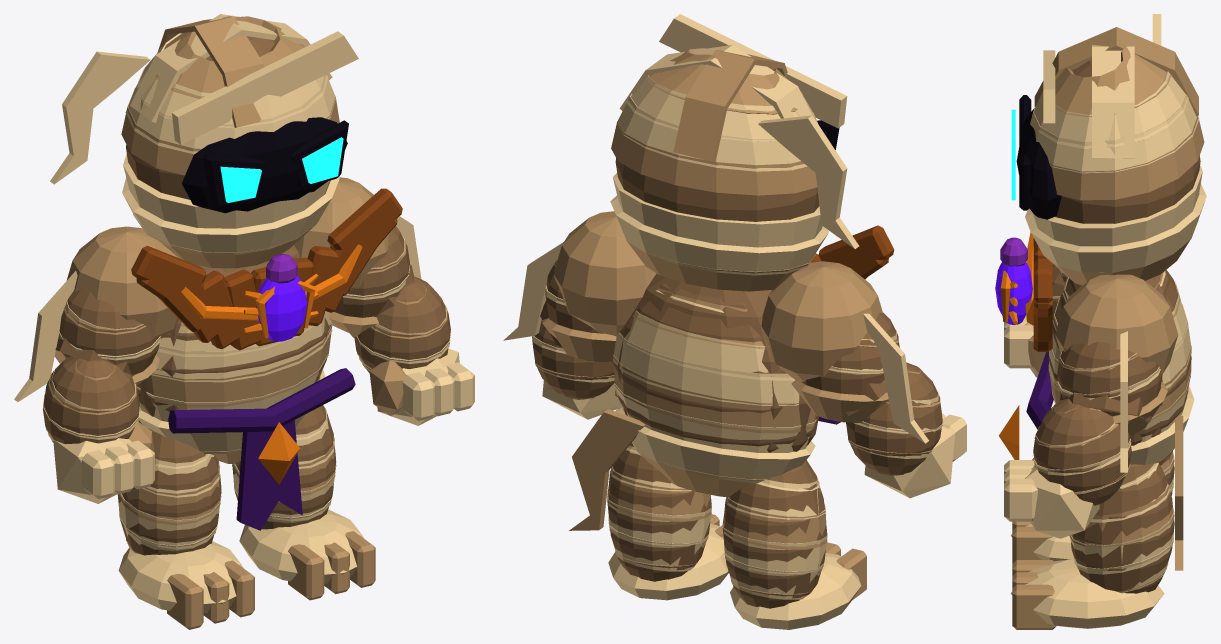
The model's file is CryptMummy.fbx.
3 renders of one model, left to right at view 1: azimuth 30°, elevation 25°; view 2: azimuth 150°, elevation 25°; view 3: azimuth 270°, elevation 25°, orthographic. The views are drawn at different scales.
Parts seen in each view (by area): view 1: Forearm-1 closed rounded form, Diagonal forehead bandage, Face shadow, Mummy shoulder-1, Head lower wrap 1, Forearm1 closed rounded form, Leg-1 closed rounded form, Torso wrap 3, Purple waist belt, Mummy foot-1, Mummy foot1, Upper arm-1 closed rounded form (+62 smaller); view 2: Mummy shoulder-1, Mummy shoulder1, Leg-1 closed rounded form, Head upper wrap 0, Head lower wrap 1, Leg1 closed rounded form, Torso wrap 4, Mummy head base, Head lower wrap 2, Crown crossing bandage north south, Torso wrap 1, Forearm-1 closed rounded form (+37 smaller); view 3: Mummy shoulder1, Leg1 closed rounded form, Forearm1 closed rounded form, Mummy foot1, Head lower wrap 1, Head upper wrap 0, Head upper wrap 1, Upper arm1 closed rounded form, Crown crossing bandage east west, Head upper wrap 2, Head lower wrap 2, Mummy head base (+43 smaller).
Boxes of the visible parts, x1=… form: Forearm-1 closed rounded form: x1=43, y1=356, x2=139, y2=443; Diagonal forehead bandage: x1=172, y1=31, x2=358, y2=144; Face shadow: x1=182, y1=117, x2=347, y2=213; Mummy shoulder-1: x1=66, y1=226, x2=179, y2=338; Head lower wrap 1: x1=122, y1=177, x2=339, y2=254; Forearm1 closed rounded form: x1=354, y1=276, x2=450, y2=372; Leg-1 closed rounded form: x1=118, y1=420, x2=221, y2=555; Torso wrap 3: x1=136, y1=323, x2=332, y2=407; Purple waist belt: x1=168, y1=368, x2=355, y2=433; Mummy foot-1: x1=118, y1=541, x2=243, y2=613; Mummy foot1: x1=239, y1=509, x2=364, y2=583; Upper arm-1 closed rounded form: x1=58, y1=289, x2=159, y2=374; Mummy shoulder-1: x1=761, y1=261, x2=882, y2=381; Mummy shoulder1: x1=553, y1=211, x2=656, y2=336; Leg-1 closed rounded form: x1=722, y1=460, x2=827, y2=608; Head upper wrap 0: x1=611, y1=121, x2=817, y2=195; Head lower wrap 1: x1=610, y1=195, x2=828, y2=275; Leg1 closed rounded form: x1=607, y1=443, x2=711, y2=581; Torso wrap 4: x1=613, y1=332, x2=799, y2=405; Mummy head base: x1=615, y1=158, x2=819, y2=221; Head lower wrap 2: x1=613, y1=173, x2=822, y2=247; Crown crossing bandage north south: x1=673, y1=50, x2=787, y2=162; Torso wrap 1: x1=615, y1=406, x2=815, y2=483; Forearm-1 closed rounded form: x1=846, y1=362, x2=942, y2=476; Mummy shoulder1: x1=1055, y1=274, x2=1178, y2=373; Leg1 closed rounded form: x1=1071, y1=463, x2=1174, y2=593; Forearm1 closed rounded form: x1=1033, y1=398, x2=1131, y2=505; Mummy foot1: x1=1011, y1=559, x2=1164, y2=628; Head lower wrap 1: x1=1025, y1=183, x2=1206, y2=272; Head upper wrap 0: x1=1049, y1=116, x2=1204, y2=200; Head upper wrap 1: x1=1030, y1=94, x2=1199, y2=173; Upper arm1 closed rounded form: x1=1057, y1=341, x2=1162, y2=416; Crown crossing bandage east west: x1=1092, y1=44, x2=1134, y2=158; Head upper wrap 2: x1=1032, y1=71, x2=1188, y2=148; Head lower wrap 2: x1=1031, y1=165, x2=1202, y2=246; Mummy head base: x1=1055, y1=60, x2=1200, y2=223.
Size of the model in its own units: 278 by 353 by 124.
